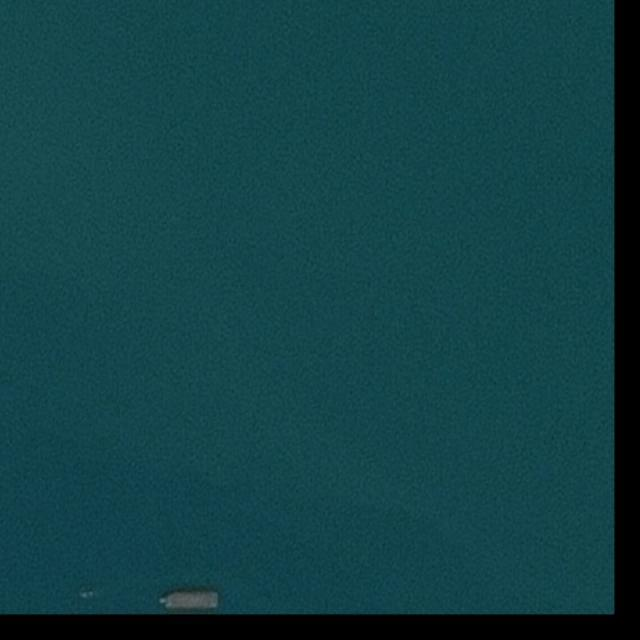ship: (158, 590, 220, 610), (78, 592, 94, 598)
